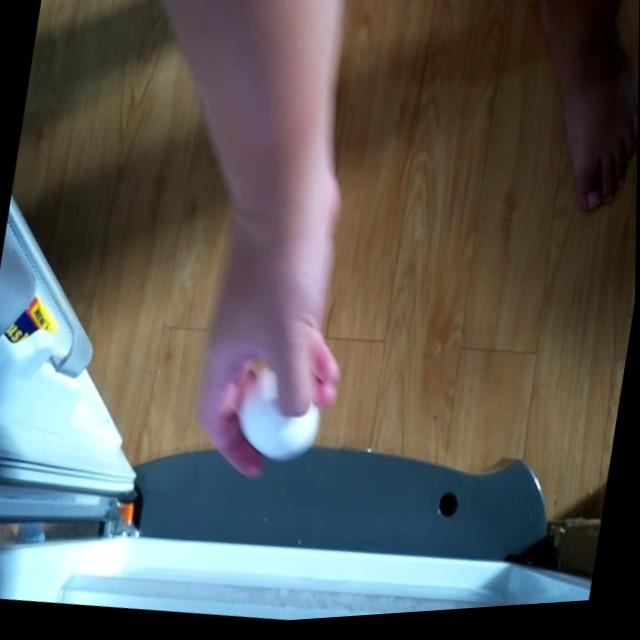egg: (221, 361, 330, 468)
